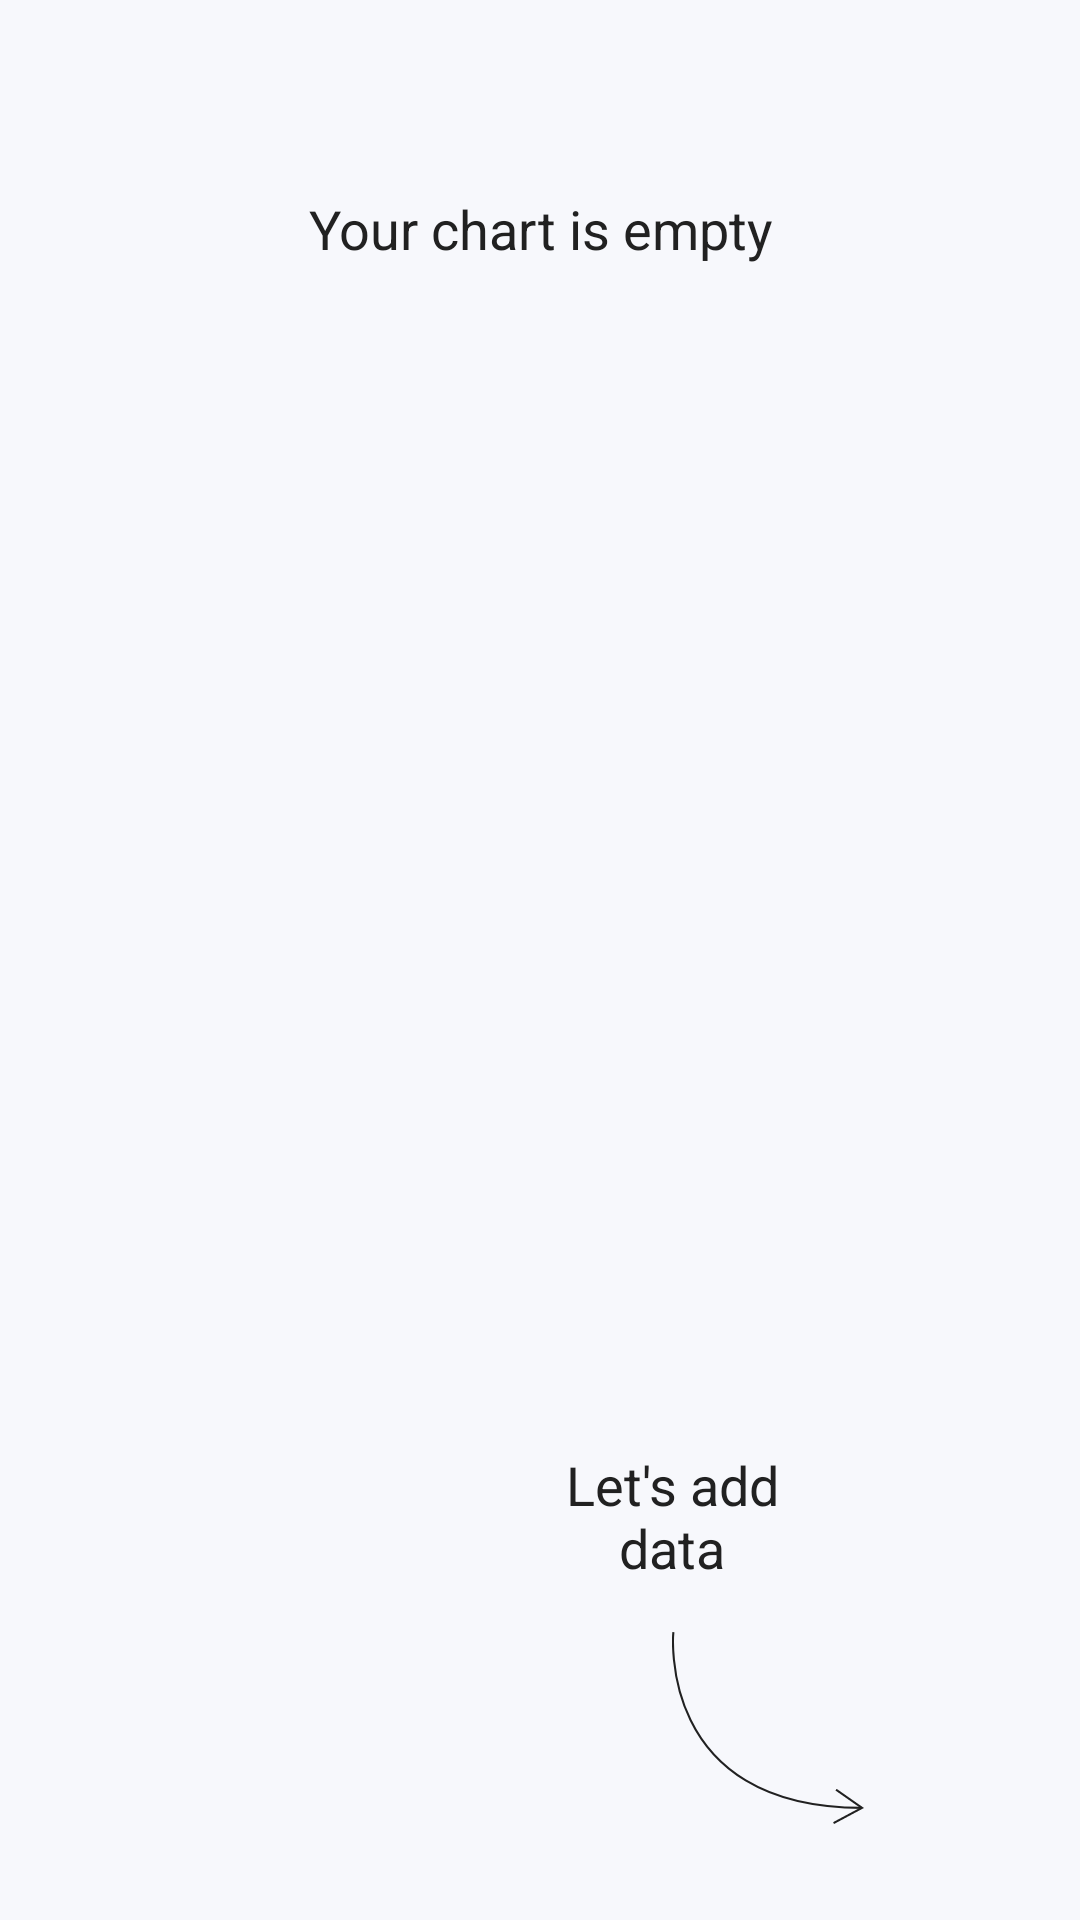

Icons on this 1080 x 1920 Android screen, each with the point to tap as point (x, y):
Arrow pointing to button: point (768, 1728)
